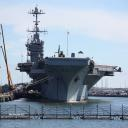Portanaves: (17, 5, 125, 105)
